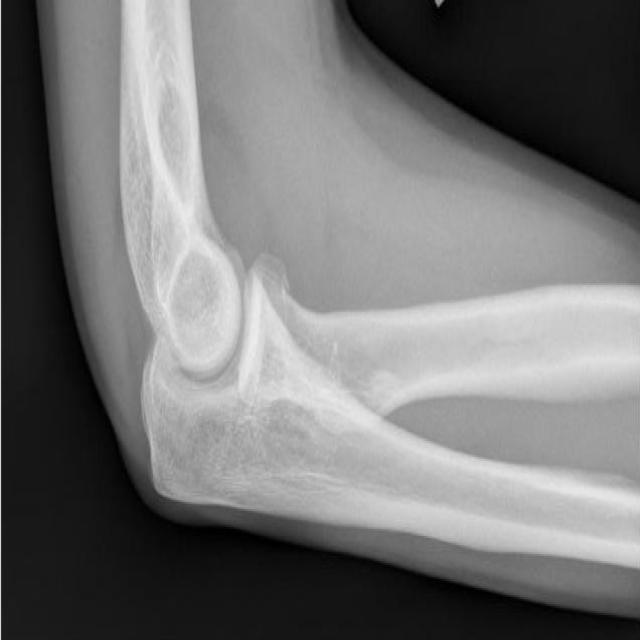Impacted: (120, 96, 430, 450)
